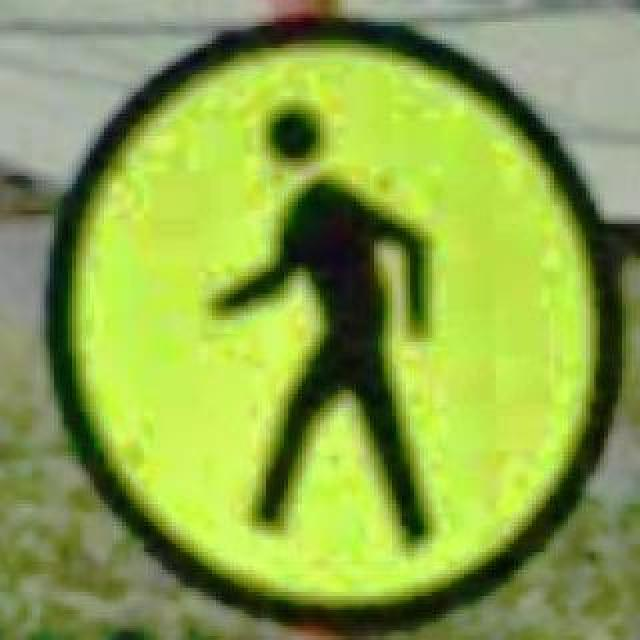pedestrian crossing: (46, 8, 622, 636)
